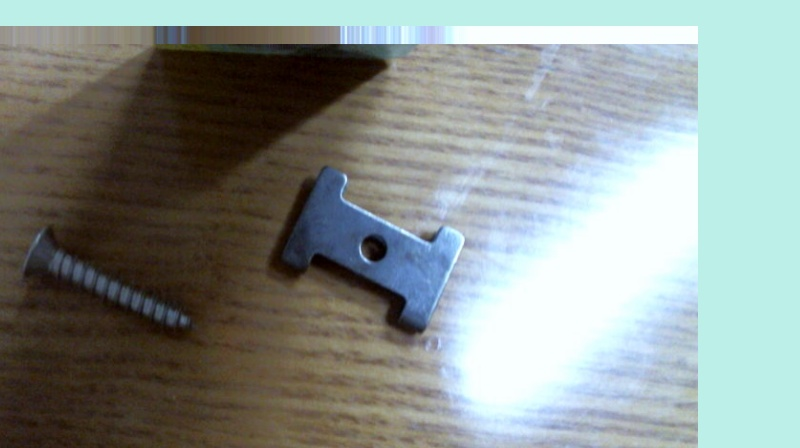O002: (274, 162, 470, 335)
S001: (17, 220, 197, 334)
